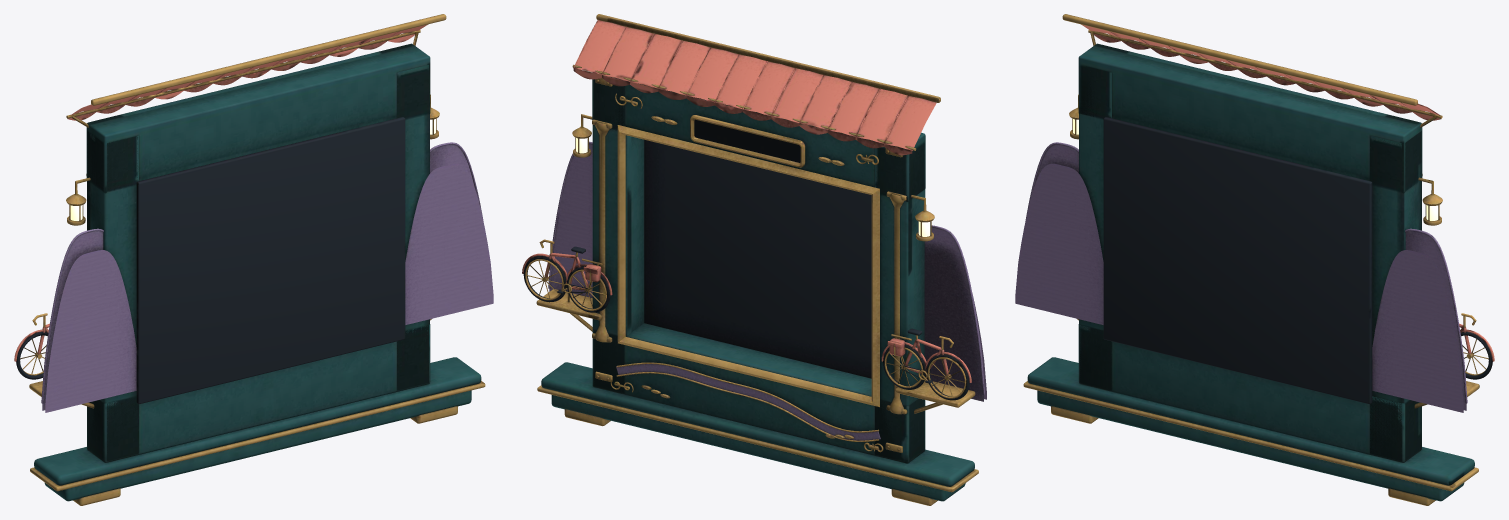
The picture shows the model from 3 angles, left to right: view 1: azimuth 30°, elevation 25°; view 2: azimuth 150°, elevation 25°; view 3: azimuth 330°, elevation 25°; orthographic projection. The views are drawn at different scales.
Visible parts, largest first — view 1: Petrol_enamel, Charcoal_rubber_and_display, Violet_landscape, Expedition_brass, Coral_canvas; view 2: Petrol_enamel, Charcoal_rubber_and_display, Expedition_brass, Coral_canvas, Violet_landscape; view 3: Petrol_enamel, Charcoal_rubber_and_display, Violet_landscape, Expedition_brass, Coral_canvas.
Boxes of the visible parts, bbox=[...] form: Petrol_enamel: bbox=[34, 43, 481, 501]; Charcoal_rubber_and_display: bbox=[16, 117, 405, 404]; Violet_landscape: bbox=[41, 142, 493, 412]; Expedition_brass: bbox=[20, 14, 485, 505]; Coral_canvas: bbox=[14, 24, 427, 361]; Petrol_enamel: bbox=[541, 77, 974, 501]; Charcoal_rubber_and_display: bbox=[523, 119, 969, 400]; Expedition_brass: bbox=[525, 14, 978, 505]; Coral_canvas: bbox=[522, 19, 971, 382]; Violet_landscape: bbox=[548, 141, 986, 440]; Petrol_enamel: bbox=[1027, 43, 1474, 501]; Charcoal_rubber_and_display: bbox=[1103, 117, 1492, 404]; Violet_landscape: bbox=[1015, 142, 1467, 412]; Expedition_brass: bbox=[1023, 14, 1488, 505]; Coral_canvas: bbox=[1081, 24, 1494, 361].
Bounding box in the file's own units: 12.51 × 10.4 × 1.45.
6 materials, 5 textured.
